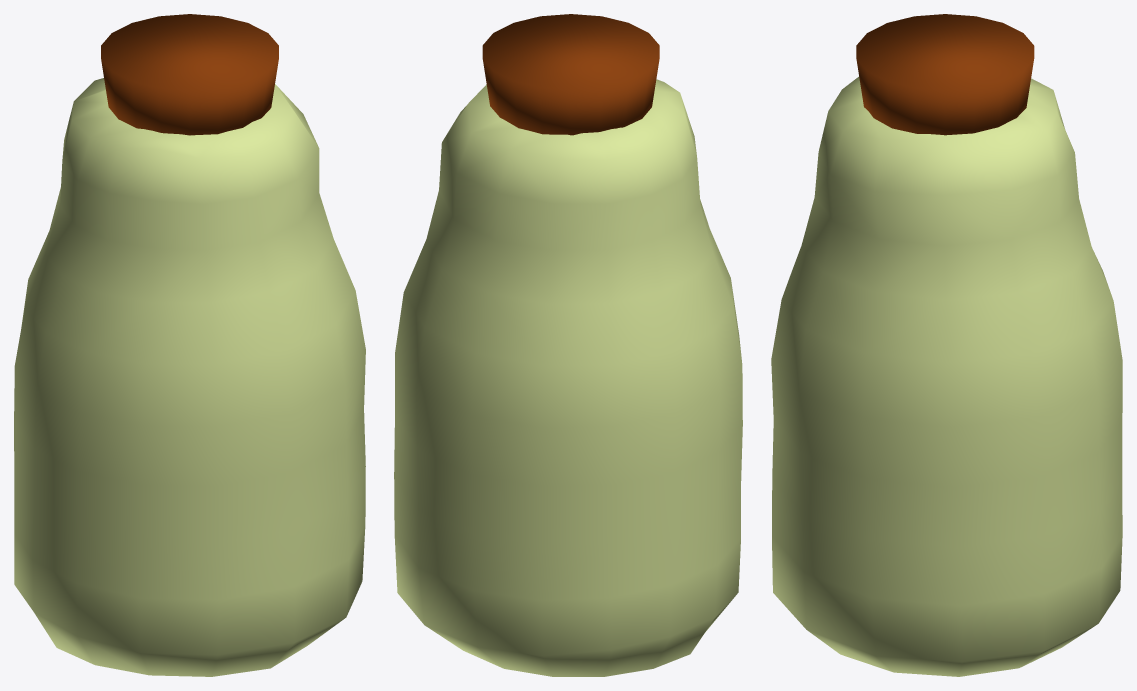
Rendered from cup.fbx.
3 views of the same model, side by side, from view 1: azimuth 30°, elevation 25°; view 2: azimuth 150°, elevation 25°; view 3: azimuth 270°, elevation 25° (orthographic).
Parts seen in each view (by area): view 1: Cylinder079, Cylinder080; view 2: Cylinder079, Cylinder080; view 3: Cylinder079, Cylinder080.
Boxes of the visible parts, bbox=[...] form: Cylinder079: bbox=[14, 78, 365, 676]; Cylinder080: bbox=[101, 14, 278, 135]; Cylinder079: bbox=[394, 79, 742, 676]; Cylinder080: bbox=[482, 14, 659, 135]; Cylinder079: bbox=[771, 76, 1122, 676]; Cylinder080: bbox=[856, 14, 1034, 135].
Bounding box in the file's own units: 2.28 × 4.1 × 2.27.
